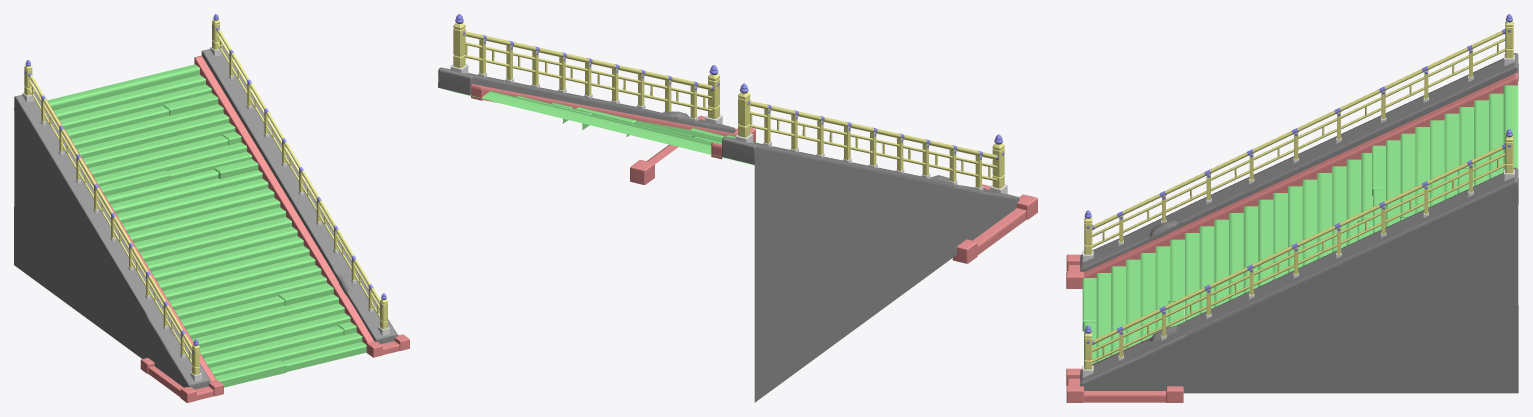
File: SM_ENV_LKNVLD_Ground_StairCase_02.gltf
3 views of the same model, side by side, from view 1: azimuth 30°, elevation 25°; view 2: azimuth 150°, elevation 25°; view 3: azimuth 270°, elevation 25° (orthographic). The views are drawn at different scales.
Visible parts, largest first — view 1: SM_ENV_LKNVLD_Ground_StairCase_02; view 2: SM_ENV_LKNVLD_Ground_StairCase_02; view 3: SM_ENV_LKNVLD_Ground_StairCase_02.
Part boxes in pixels (x1,y1,x2,y2): SM_ENV_LKNVLD_Ground_StairCase_02: [14, 14, 409, 402]; SM_ENV_LKNVLD_Ground_StairCase_02: [438, 14, 1037, 402]; SM_ENV_LKNVLD_Ground_StairCase_02: [1066, 14, 1518, 402].
Size of the model in its own units: 8.79 by 7.9 by 12.3.
